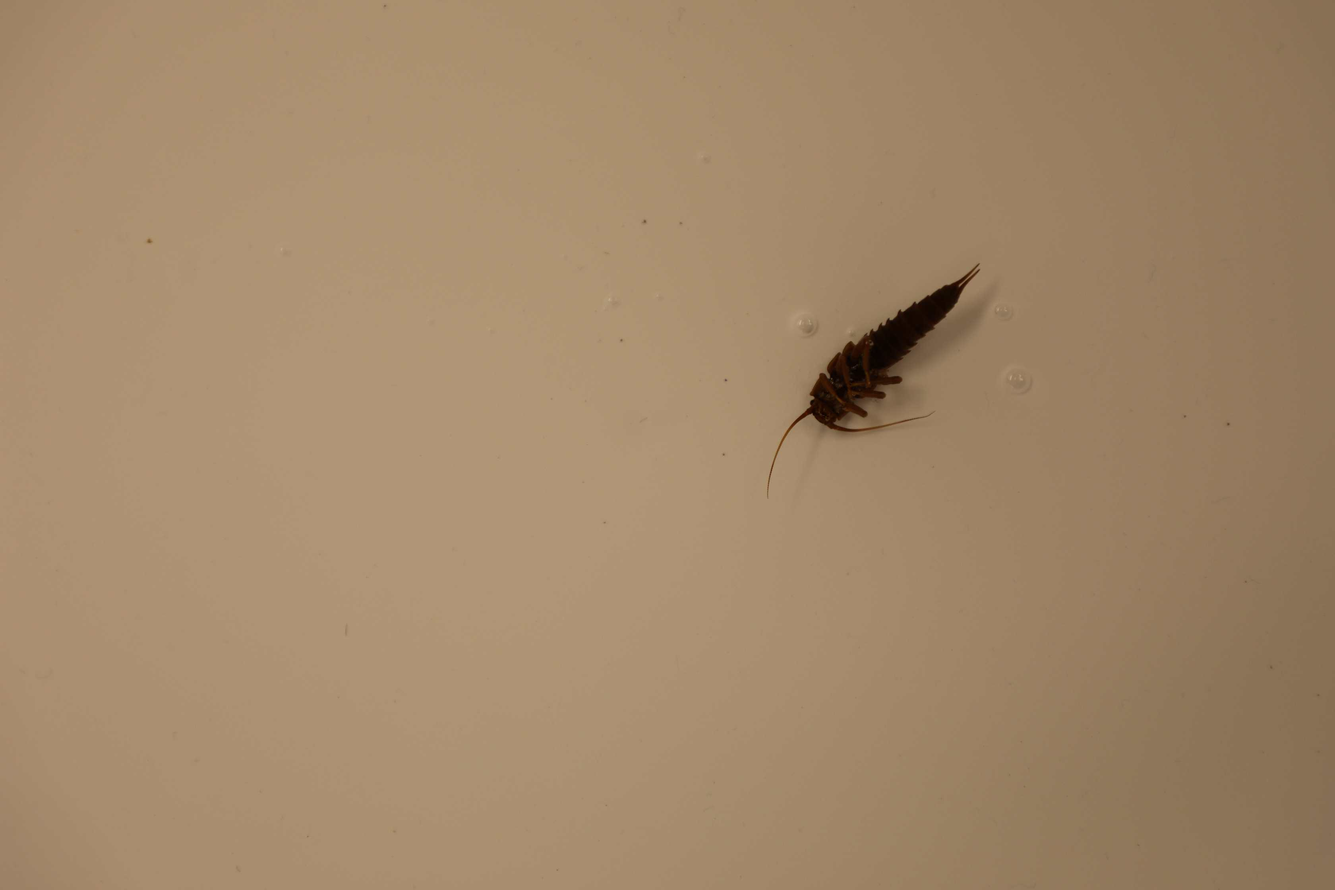Stonefly: (760, 263, 984, 502)
